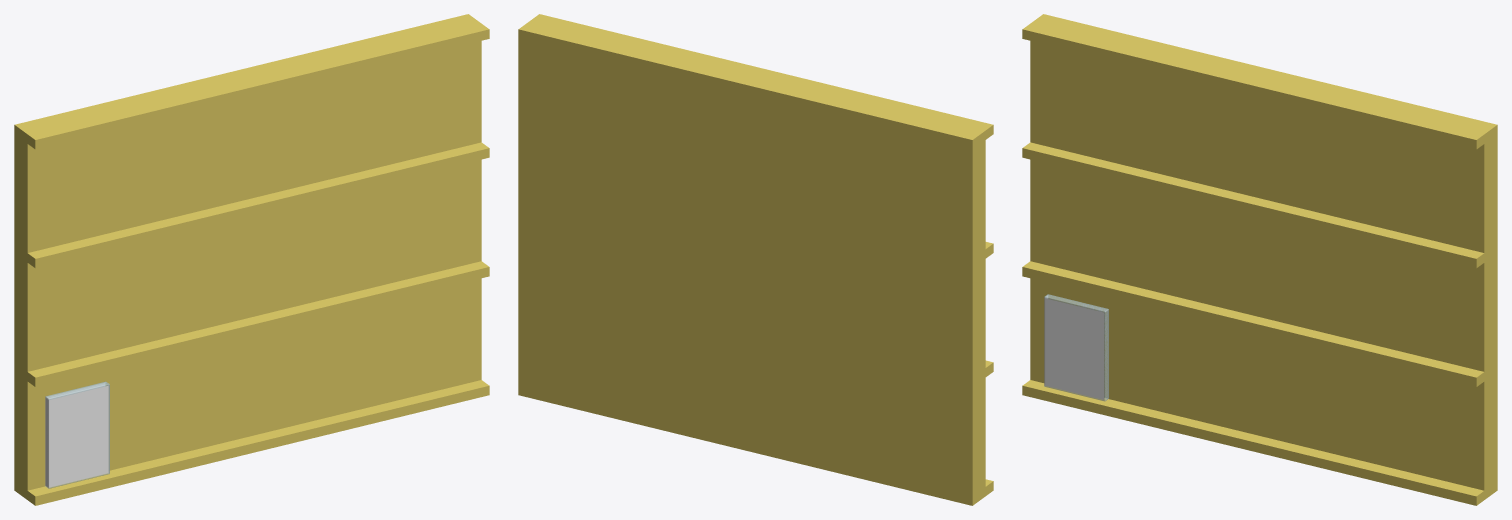
File: darkeye-shop.glb
The picture shows the model from 3 angles, left to right: view 1: azimuth 30°, elevation 25°; view 2: azimuth 150°, elevation 25°; view 3: azimuth 330°, elevation 25°; orthographic projection.
Visible parts, largest first — view 1: Cube.004, Cube.002, Cube.003, Cube.001, Cube, dvd; view 2: Cube.004, Cube.003; view 3: Cube.004, Cube.002, Cube.003, Cube.001, Cube, dvd.
Part boxes in pixels (x1,y1,x2,y2): Cube.004: (14, 14, 481, 499); Cube.002: (27, 142, 489, 268); Cube.003: (27, 23, 489, 149); Cube.001: (27, 261, 489, 386); Cube: (27, 380, 489, 505); dvd: (45, 381, 109, 488); Cube.004: (518, 20, 985, 505); Cube.003: (532, 14, 993, 139); Cube.004: (1030, 14, 1497, 499); Cube.002: (1022, 142, 1484, 268); Cube.003: (1022, 23, 1484, 149); Cube.001: (1022, 261, 1484, 386); Cube: (1022, 380, 1484, 505); dvd: (1044, 294, 1108, 401).
Bounding box in the file's own units: 1 × 0.77 × 0.08.
